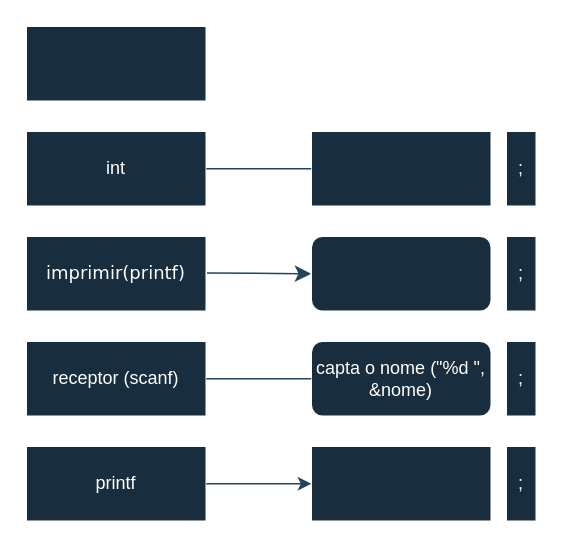
Some shapes in this 563 by 548 pixel diagram are drawn without their labels. Each missing label, with the box of its shape:
"seu nome é &d", nome: (310, 445, 491, 521)
#include <stdio.h>: (25, 25, 206, 101)
qual é o seu nome?: (310, 235, 491, 311)
variavel (nome): (310, 130, 491, 206)
